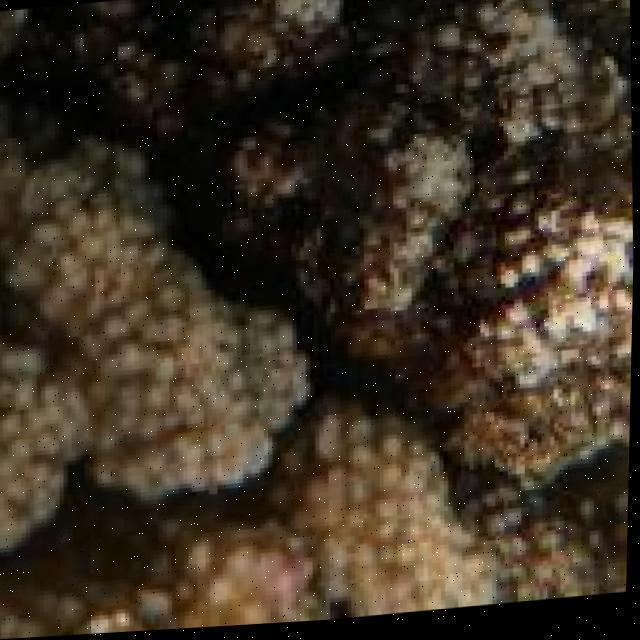Bleached Coral: (0, 165, 305, 546), (308, 408, 498, 640)
Dead Coral: (264, 9, 637, 458)
